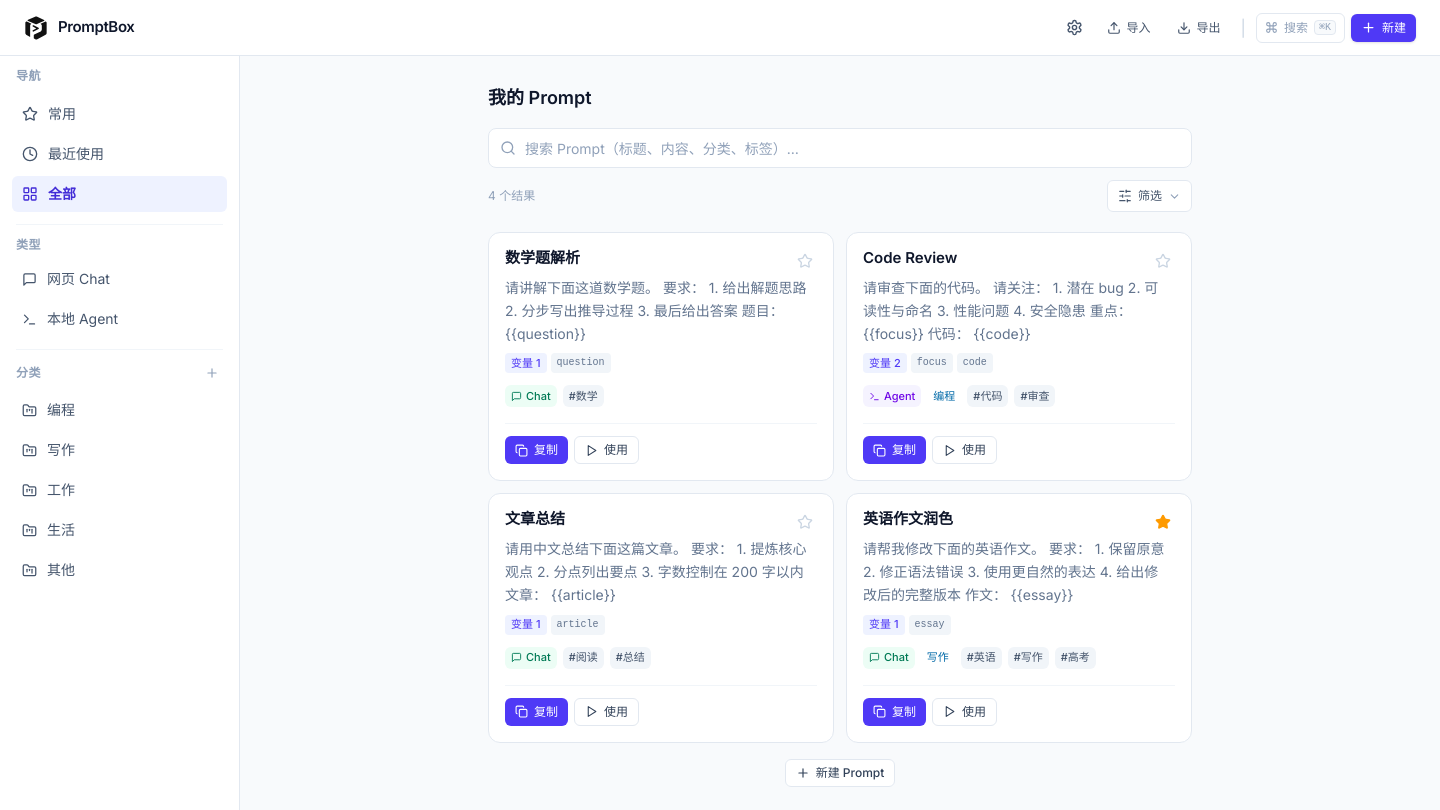
Test: App integration › shows Chat/Agent badges and filters by type
Check: the button "Agent" is shown, box [863,385,921,407]
Click the button "本地 Agent": {"x": 120, "y": 319} [12,301,227,337]
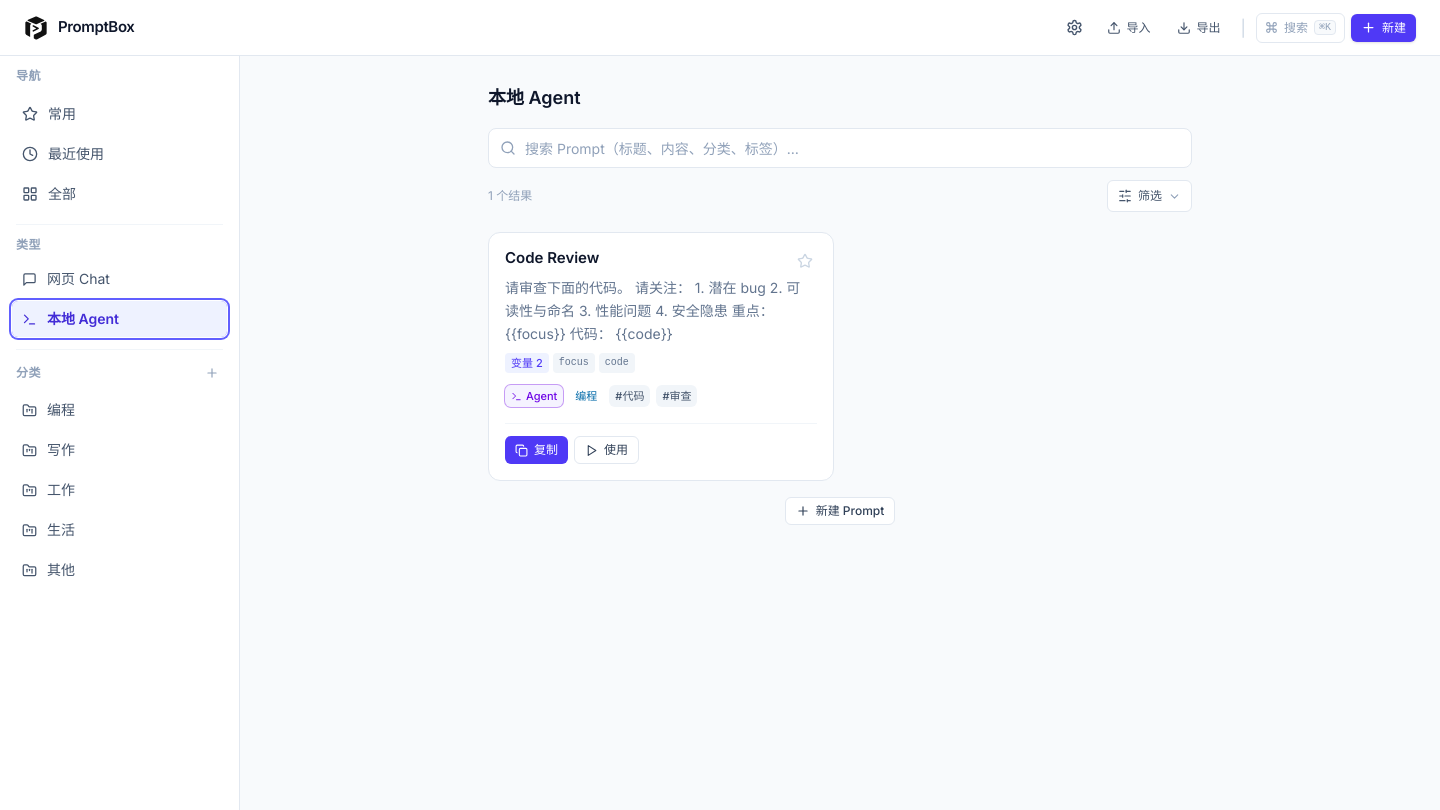
Check: the button "Code Review" is shown, box [503,247,601,270]
Check: the button "英语作文润色" is gone
